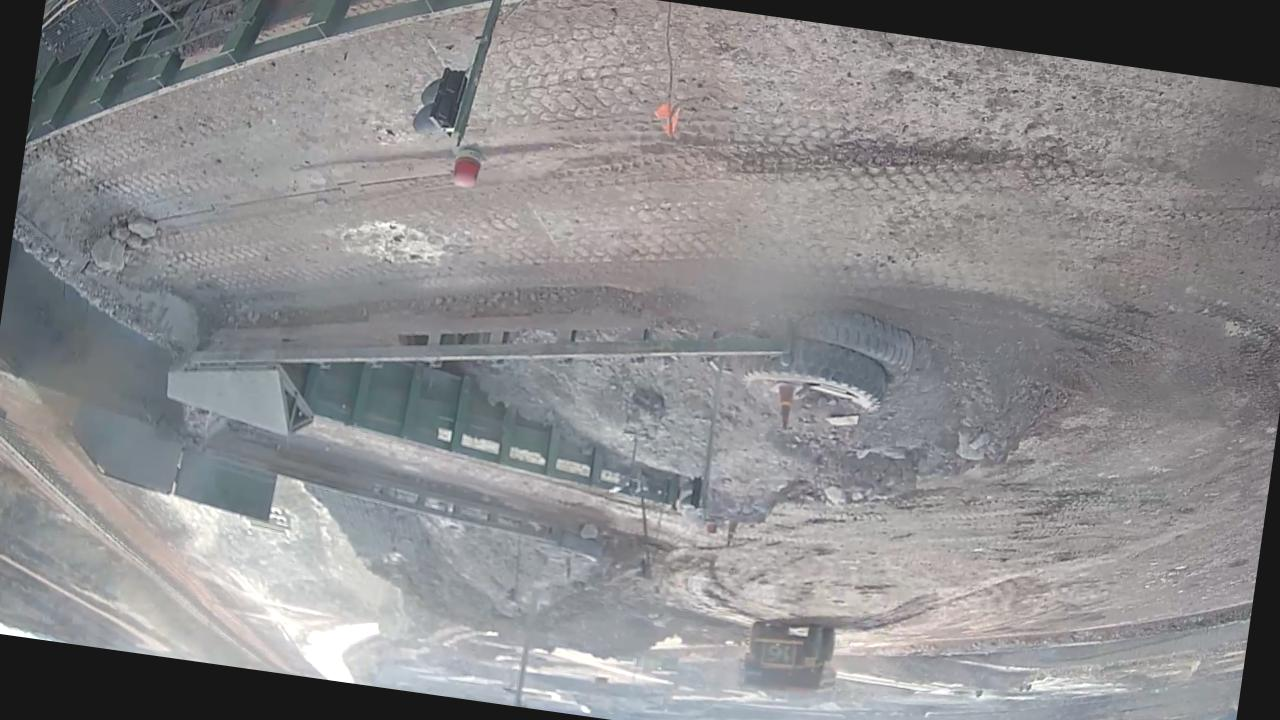mining_truck: (736, 613, 842, 704)
